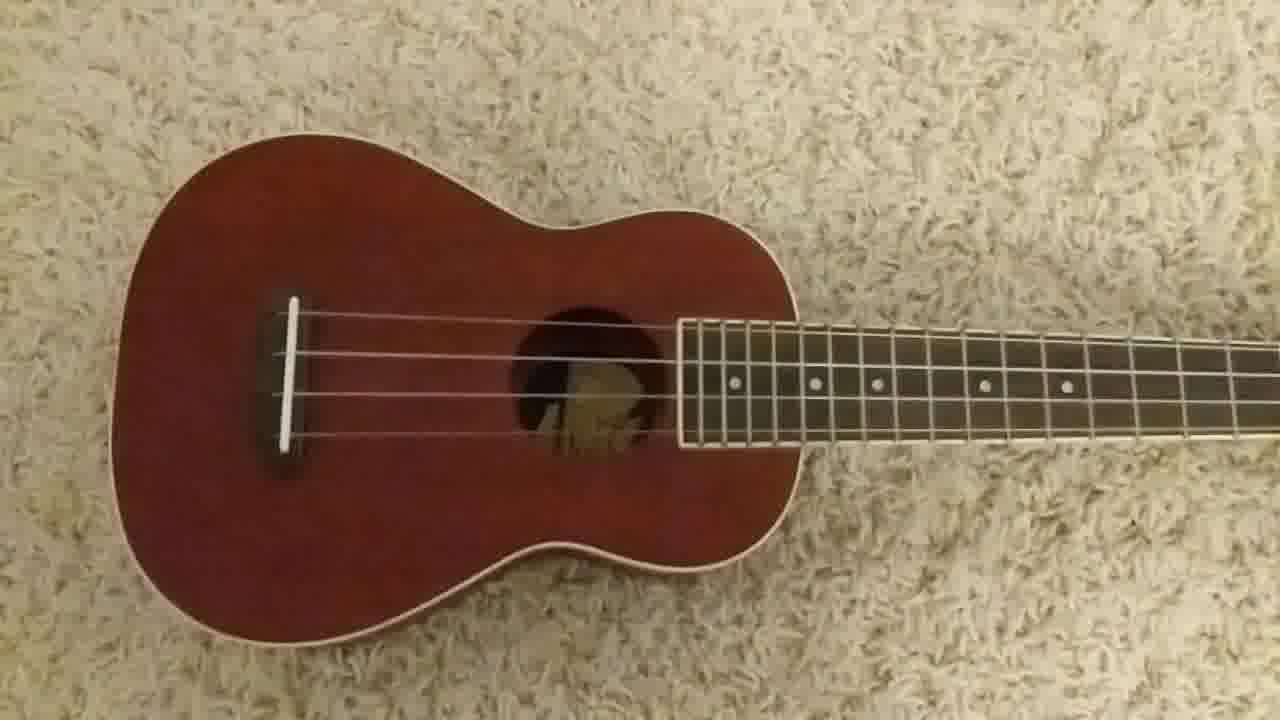Body: (102, 128, 809, 659)
Bridge: (249, 284, 316, 469)
